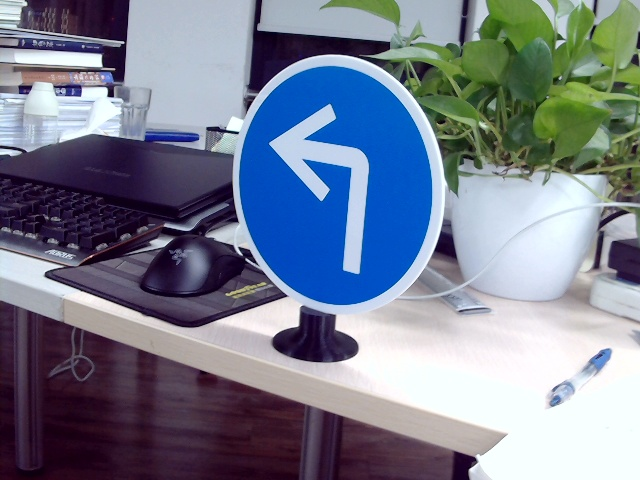turn_left: (268, 98, 379, 275)
